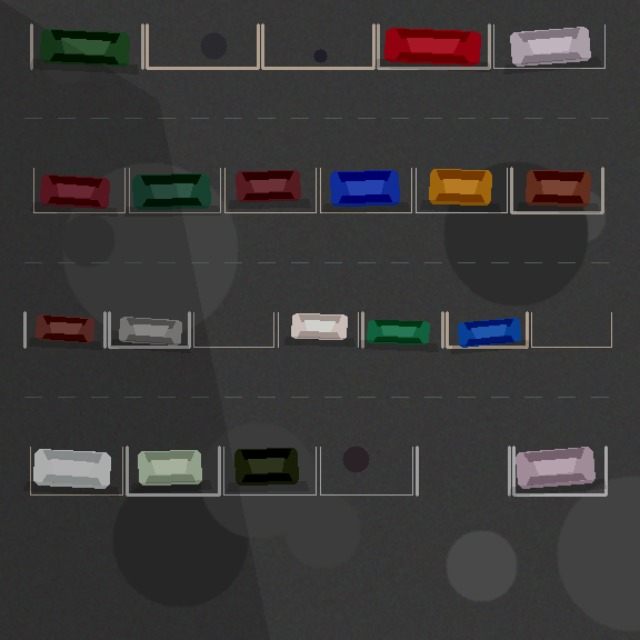space-empty: (147, 24, 258, 68), (262, 24, 373, 68), (320, 447, 412, 494), (417, 447, 509, 494), (193, 312, 273, 347), (531, 312, 611, 347)
space-occupied: (31, 24, 142, 68), (378, 24, 489, 68), (493, 24, 604, 68), (223, 447, 316, 494), (513, 447, 606, 494), (30, 447, 122, 494), (127, 447, 219, 494), (224, 168, 316, 212), (33, 168, 124, 212), (129, 168, 220, 212), (320, 168, 411, 212), (416, 168, 507, 212), (511, 168, 602, 212), (24, 312, 104, 347), (109, 312, 189, 347), (278, 312, 358, 347), (362, 312, 442, 347), (447, 312, 527, 347)
